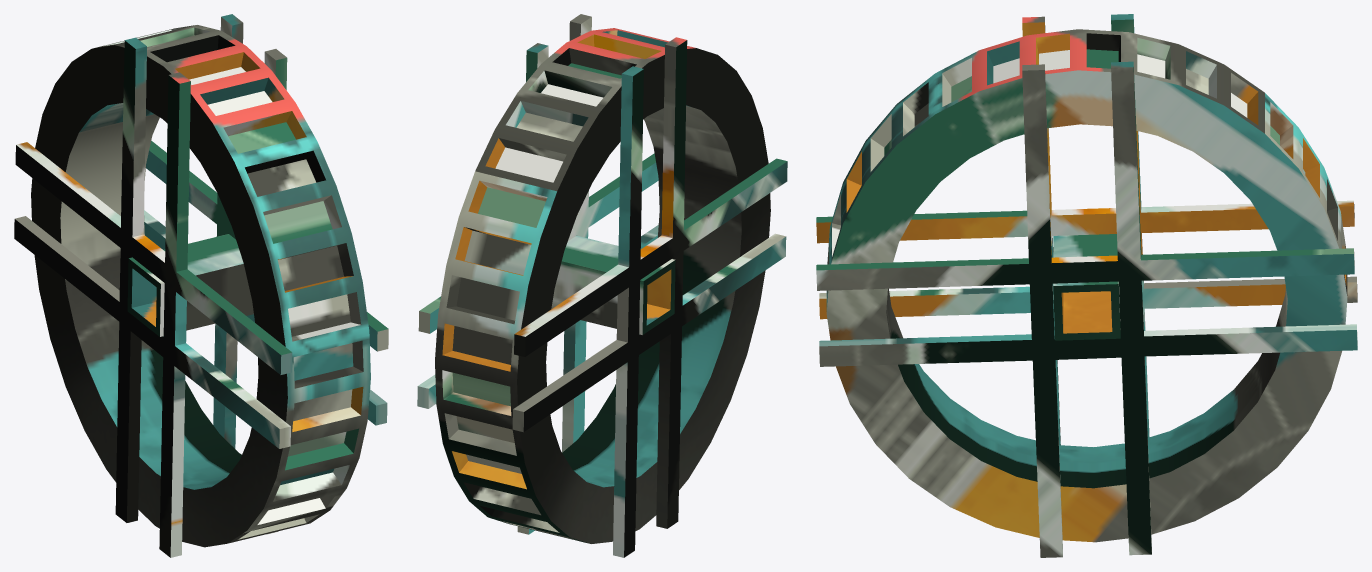
The model's file is WaterWheel_low.fbx.
3 views of the same model, side by side, from view 1: azimuth 30°, elevation 25°; view 2: azimuth 150°, elevation 25°; view 3: azimuth 270°, elevation 25° (orthographic). The views are drawn at different scales.
Visible parts, largest first — view 1: WaterWheel_low; view 2: WaterWheel_low; view 3: WaterWheel_low.
Boxes of the visible parts, <box> form: WaterWheel_low: <box>14,14,388,557</box>; WaterWheel_low: <box>417,14,787,557</box>; WaterWheel_low: <box>816,14,1357,557</box>.
Size of the model in its own units: 1.74 by 6.99 by 6.99.
